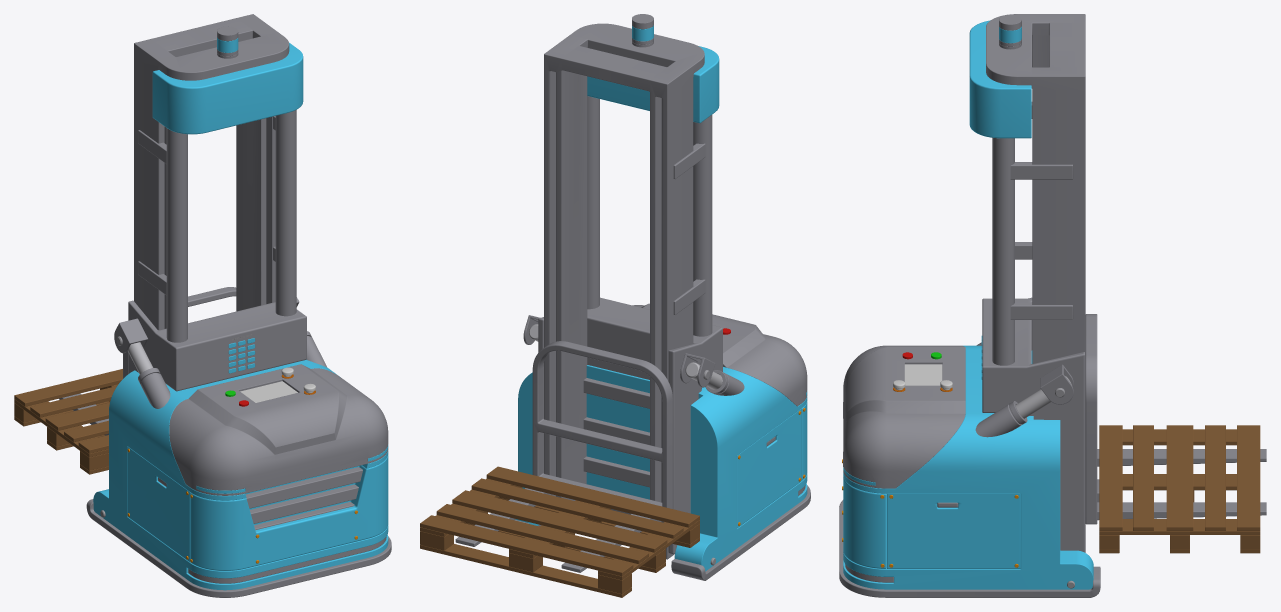
The model's file is Forklift_agv_01.obj.
3 renders of one model, left to right at view 1: azimuth 30°, elevation 25°; view 2: azimuth 150°, elevation 25°; view 3: azimuth 270°, elevation 25°, orthographic. The views are drawn at different scales.
Parts seen in each view (by area): view 1: Cube.016, Cube.018, Cube.015, Cube, Slice.006, Cube.005, Plane.002, Slice.005, Cube.017, Cube.013, Cylinder, Cube.014 (+6 smaller); view 2: Cube.018, Plane.002, Cube, Cube.015, Cube.004, Slice.005, Cube.016, Cube.019, Cube.005, Cube.013, Cube.007, Circle (+4 smaller); view 3: Cube.018, Cube, Plane.002, Cube.015, Cube.016, Slice.005, Cube.005, Slice.006, Cube.013, Cube.004, Cube.007, Cube.003 (+5 smaller).
Boxes of the visible parts, <box> form: Cube.016: <box>169,364,388,495</box>; Cube.018: <box>134,14,289,330</box>; Cube.015: <box>128,110,306,391</box>; Cube: <box>93,359,388,590</box>; Slice.006: <box>190,455,388,570</box>; Cube.005: <box>152,42,303,134</box>; Plane.002: <box>14,369,122,474</box>; Slice.005: <box>127,446,190,561</box>; Cube.017: <box>246,467,362,530</box>; Cube.013: <box>86,499,391,597</box>; Cylinder: <box>138,331,327,408</box>; Cube.014: <box>188,536,386,583</box>; Cube.018: <box>544,23,704,559</box>; Plane.002: <box>420,466,699,597</box>; Cube: <box>515,365,807,571</box>; Cube.015: <box>538,96,722,554</box>; Cube.004: <box>532,341,672,508</box>; Slice.005: <box>736,408,801,528</box>; Cube.016: <box>632,303,807,406</box>; Cube.019: <box>583,378,649,514</box>; Cube.005: <box>587,46,719,123</box>; Cube.013: <box>514,485,810,580</box>; Cube.007: <box>673,143,705,314</box>; Circle: <box>523,315,715,387</box>; Cube.018: <box>986,14,1085,552</box>; Cube: <box>843,345,1093,589</box>; Plane.002: <box>1099,425,1260,553</box>; Cube.015: <box>982,137,1084,552</box>; Cube.016: <box>843,345,965,488</box>; Slice.005: <box>887,493,1020,568</box>; Cube.005: <box>969,20,1031,138</box>; Slice.006: <box>843,477,886,568</box>; Cube.013: <box>839,479,1100,597</box>; Cube.004: <box>1085,314,1097,524</box>; Cube.007: <box>1010,102,1073,319</box>; Cube.003: <box>1097,449,1266,520</box>.
Size of the model in its own units: 1.08 by 2.56 by 1.87.
